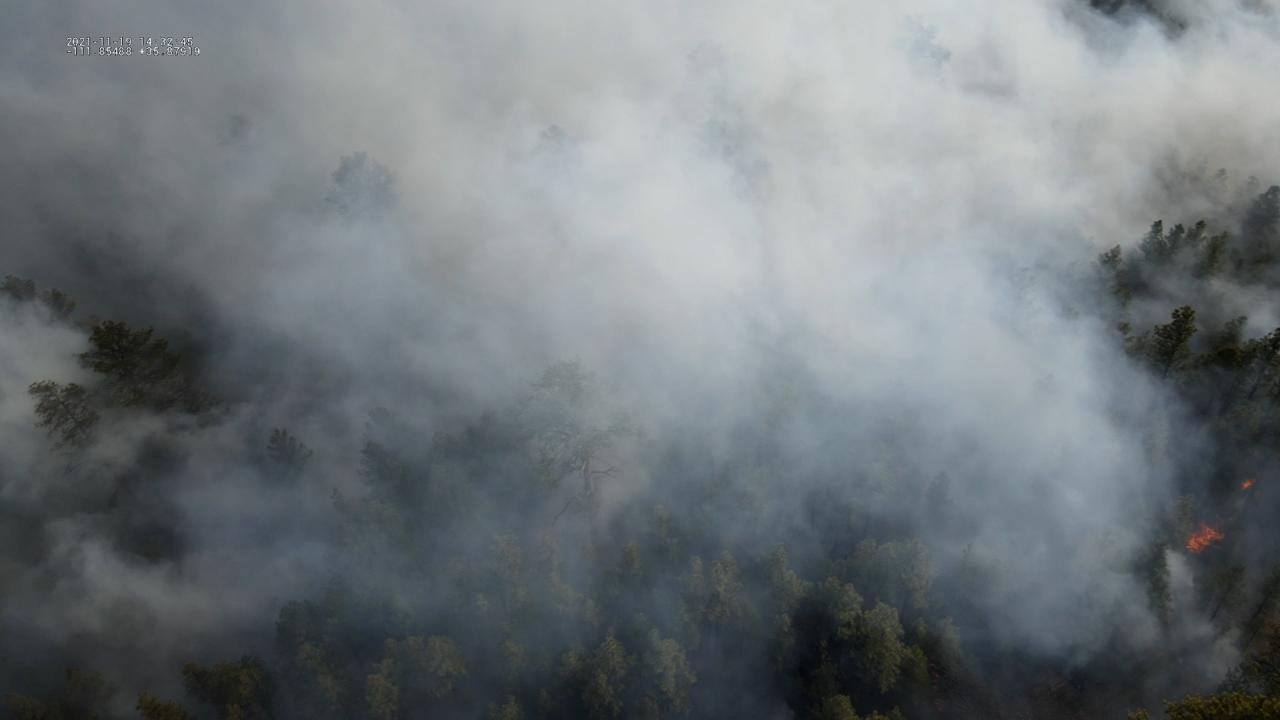fire: (1183, 521, 1226, 558), (1238, 476, 1256, 493)
smoke: (0, 0, 1280, 720)
